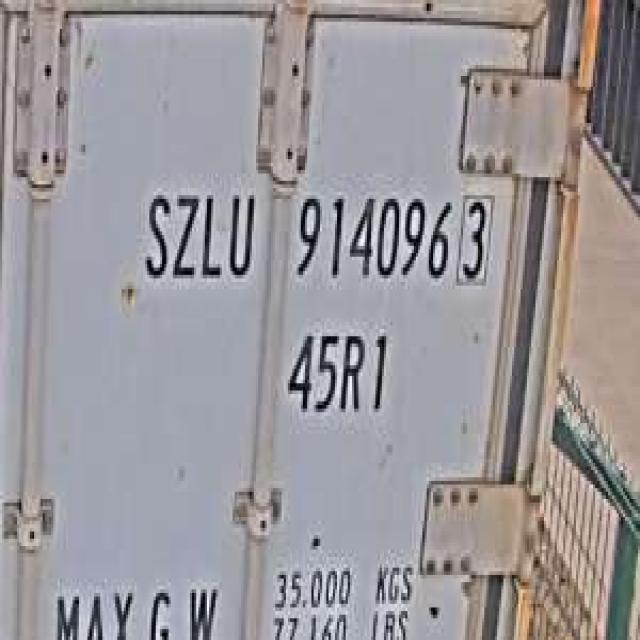dv: (452, 184, 497, 293)
owner: (139, 173, 258, 293)
serial: (288, 177, 452, 293)
size: (280, 315, 392, 423)
